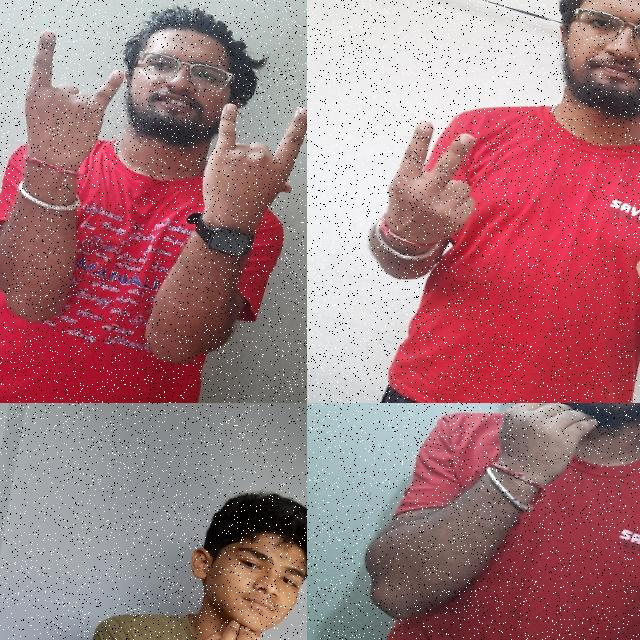Chin Flick: (135, 457, 307, 640), (472, 403, 640, 512)
Corna: (0, 7, 149, 181), (175, 78, 307, 252)
Reversed Victory: (362, 105, 501, 272), (606, 185, 640, 357)
